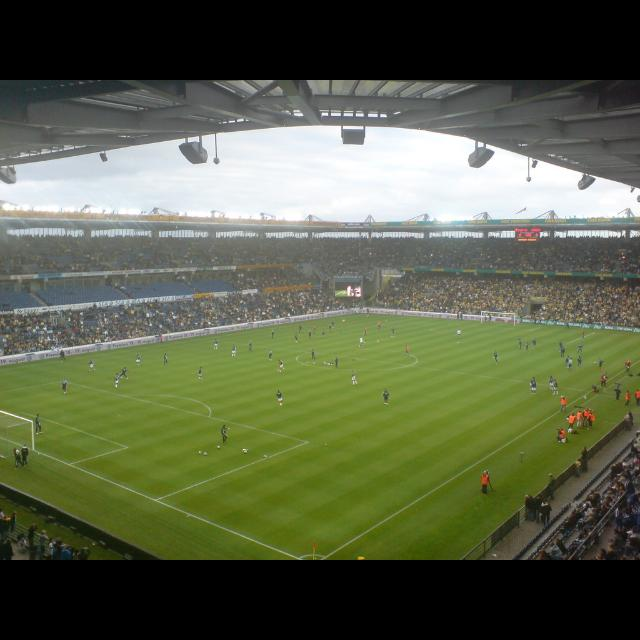Football: (242, 450, 248, 452)
